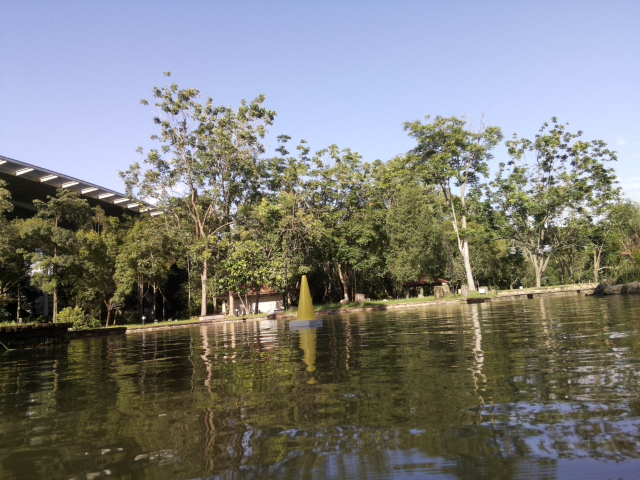checkpoint: (287, 274, 323, 329)
